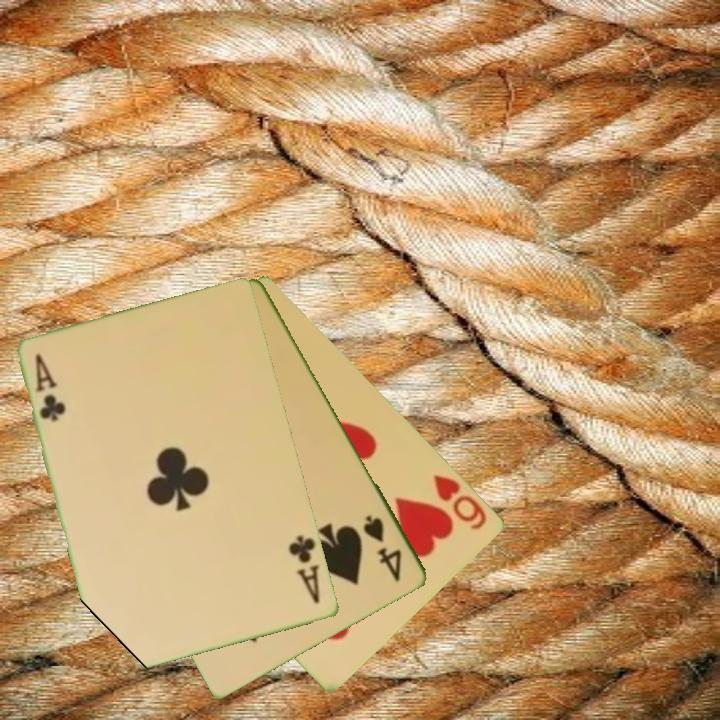4s: (360, 511, 406, 585)
6h: (430, 470, 491, 533)
Ac: (285, 532, 323, 607), (32, 351, 69, 425)
